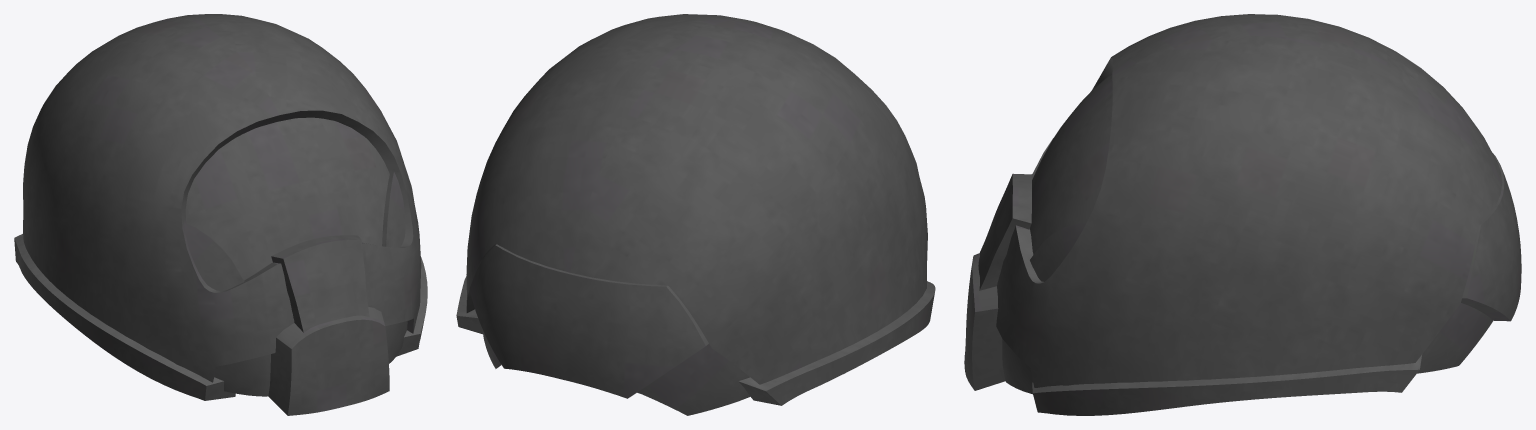
File: item.armor.black_visor_helmet.glb
3 renders of one model, left to right at view 1: azimuth 30°, elevation 25°; view 2: azimuth 150°, elevation 25°; view 3: azimuth 270°, elevation 25°, orthographic. The views are drawn at different scales.
Parts seen in each view (by area): view 1: helmetWbb; view 2: helmetWbb; view 3: helmetWbb.
Part boxes in pixels (x1=…): helmetWbb: x1=14, y1=14, x2=427, y2=415; helmetWbb: x1=456, y1=14, x2=935, y2=415; helmetWbb: x1=964, y1=14, x2=1521, y2=415.
Size of the model in its own units: 0.9701 by 0.7761 by 1.2.
1 material, 1 textured.
